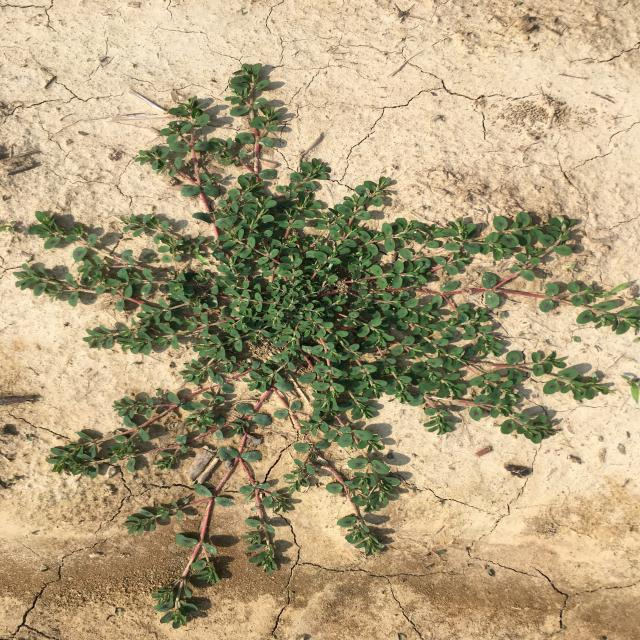SpottedSpurge: (12, 62, 638, 629)
